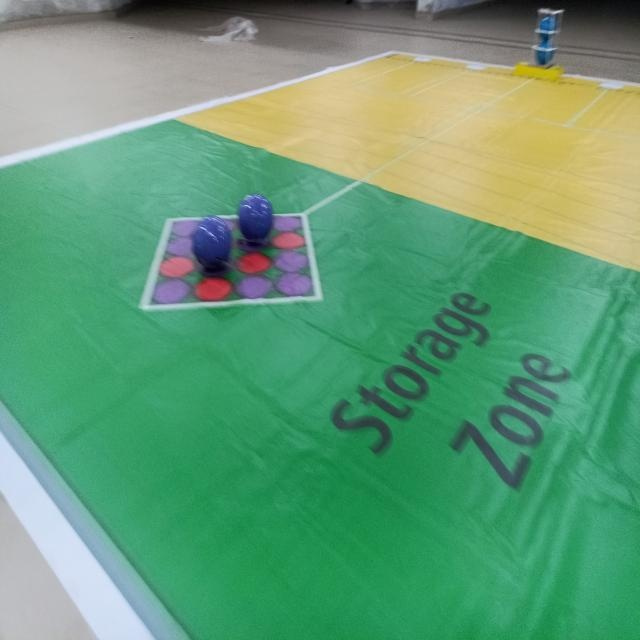purple_ball: (192, 214, 233, 273), (238, 192, 273, 245)
